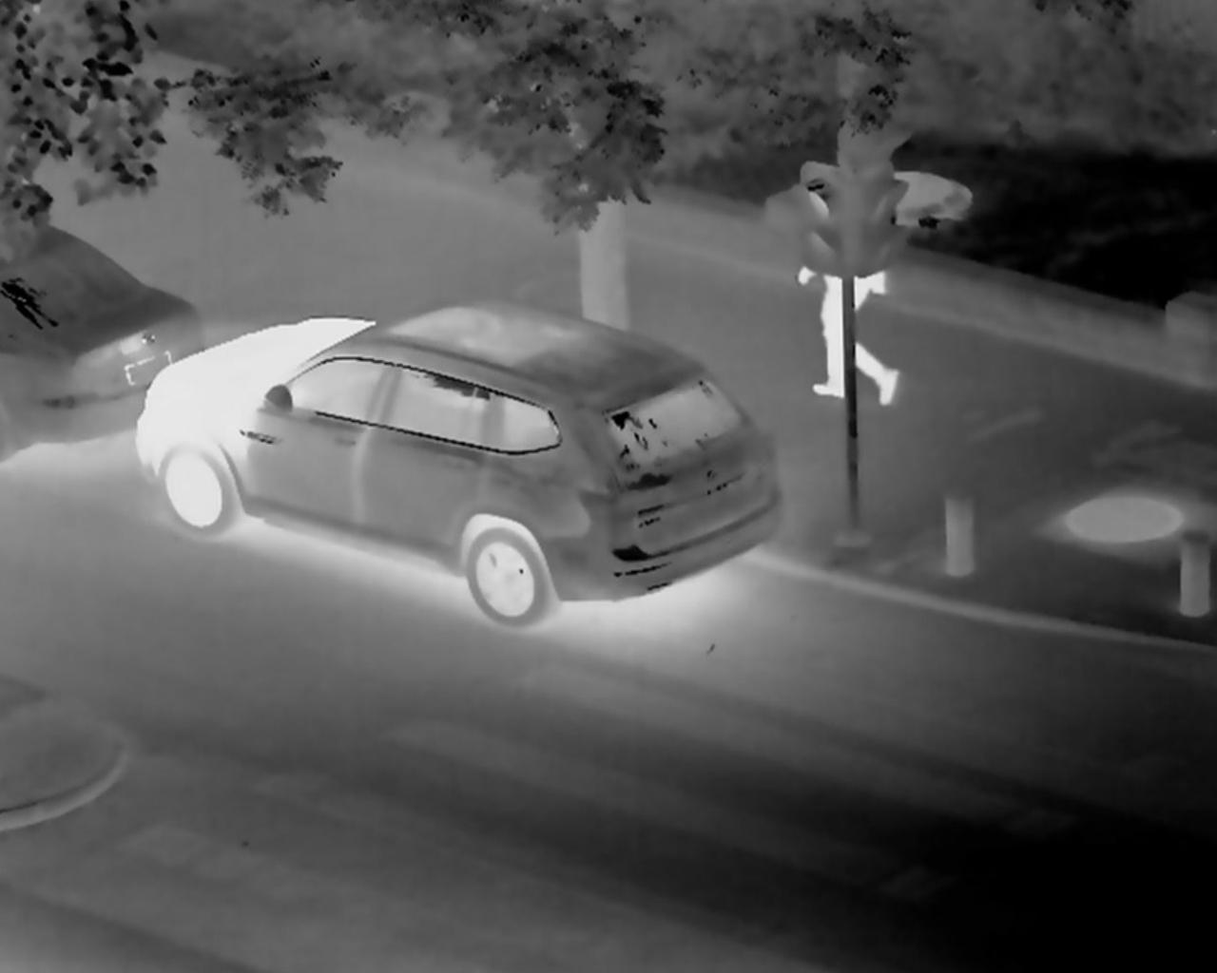person: (800, 235, 907, 412)
